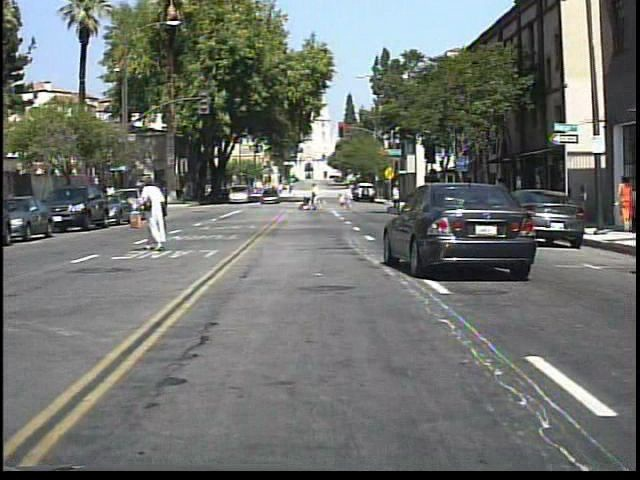person: (131, 171, 175, 259), (618, 166, 637, 236), (492, 170, 512, 220), (387, 180, 404, 211), (311, 182, 325, 212)
